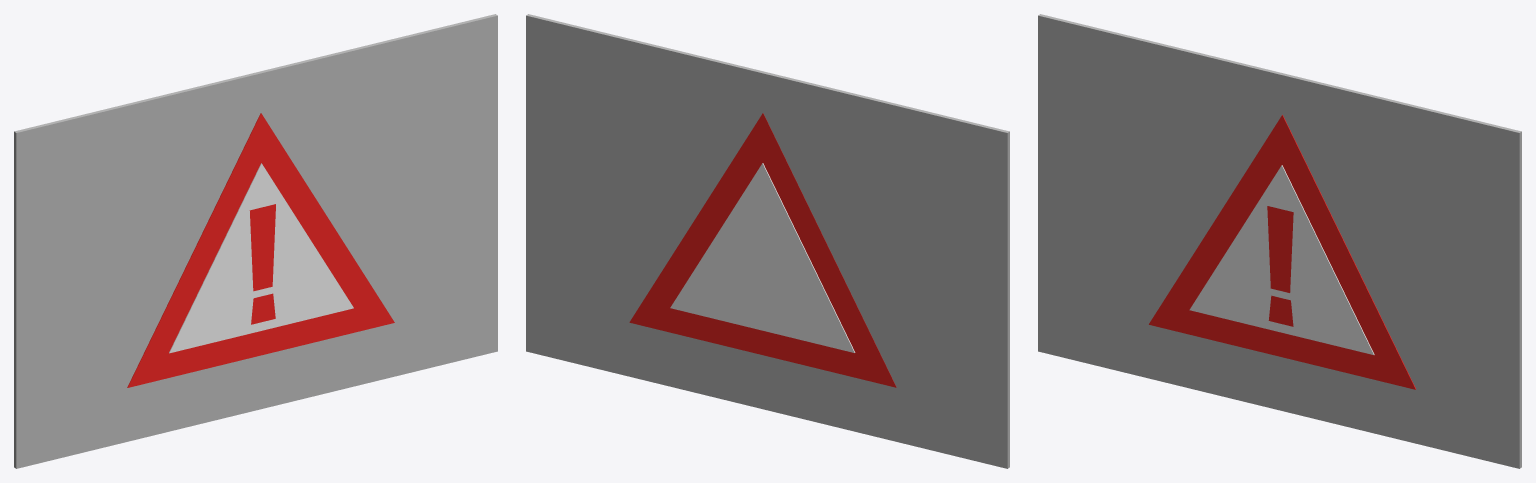
File: PostHorizontal.fbx
The picture shows the model from 3 angles, left to right: view 1: azimuth 30°, elevation 25°; view 2: azimuth 150°, elevation 25°; view 3: azimuth 330°, elevation 25°; orthographic projection.
Parts seen in each view (by area): view 1: Plane.057; view 2: Plane.057; view 3: Plane.057.
Part boxes in pixels (box(x1,y1,x2,y2)): Plane.057: box(14, 14, 497, 468); Plane.057: box(526, 14, 1009, 468); Plane.057: box(1038, 14, 1521, 468).
Bounding box in the file's own units: 9 × 6 × 0.1608.
